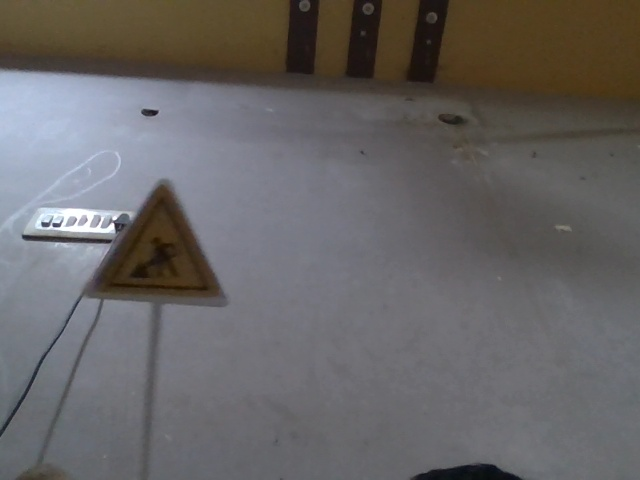workinprogress: (79, 170, 224, 318)
